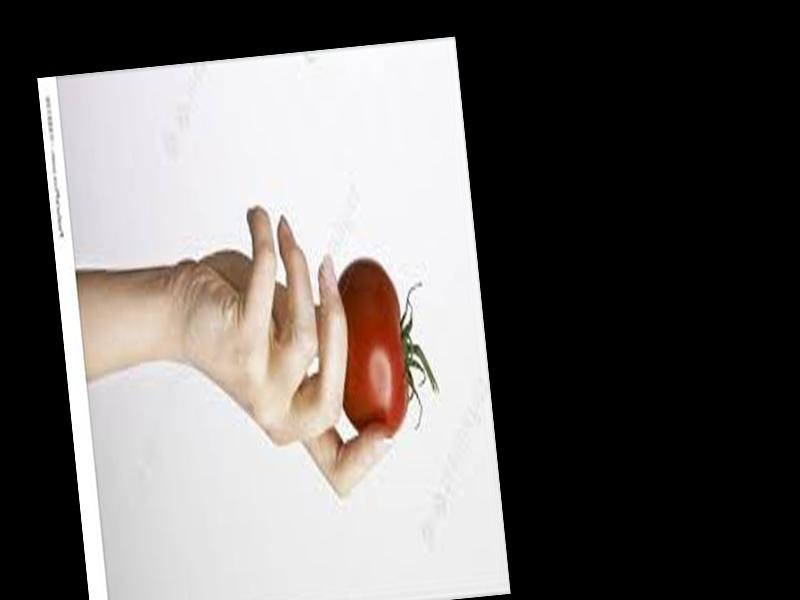Tomato: (330, 255, 441, 439)
